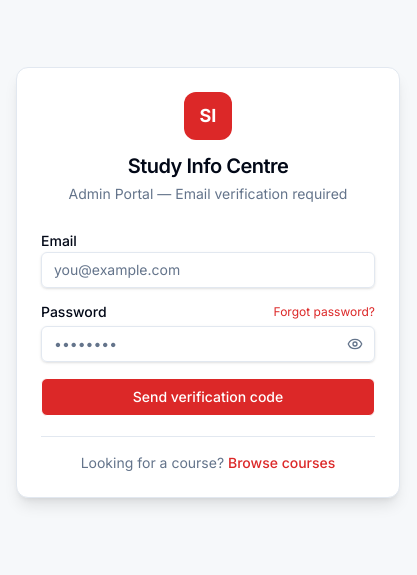
Test: mandatory email verification › keeps users on the verification step when a code is rejected
This screenshot has width=417, height=575.
Type "person@example.test" into the field labelled "Email" at x=208, y=270, box [41,252,375,288]
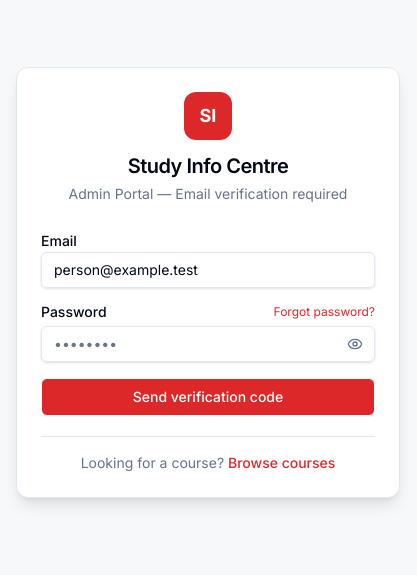
Type "test-password" into the password field labelled "Password" at x=208, y=344, box [41,326,375,362]
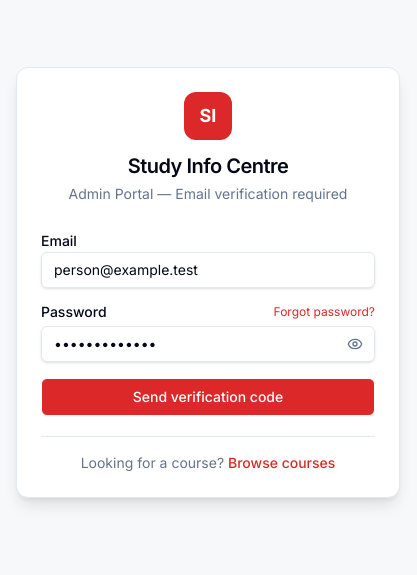
Click the button "Send verification code" at x=208, y=396, box [41,378,375,416]
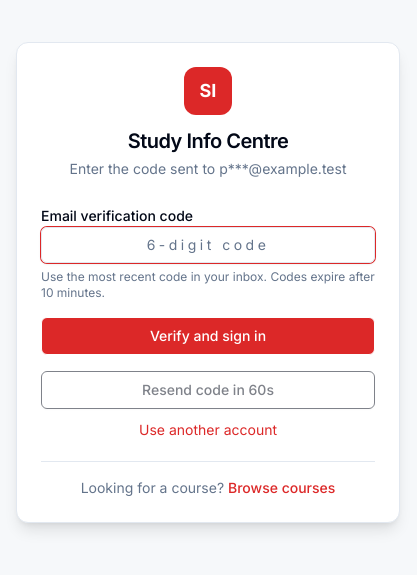
Type "123456" into the field labelled "Email verification code" at x=208, y=244, box [41,226,375,262]
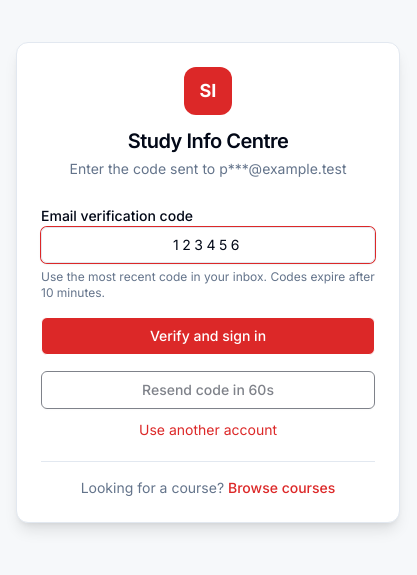
Click the button "Verify and sign in" at x=208, y=336, box [41,316,375,354]
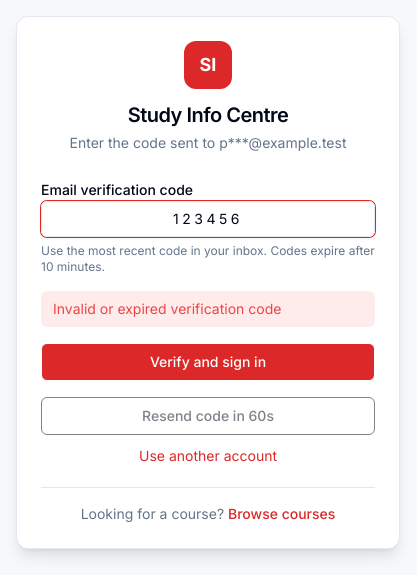
Expected: the message shows "Invalid or expired", [53,300,281,316]
